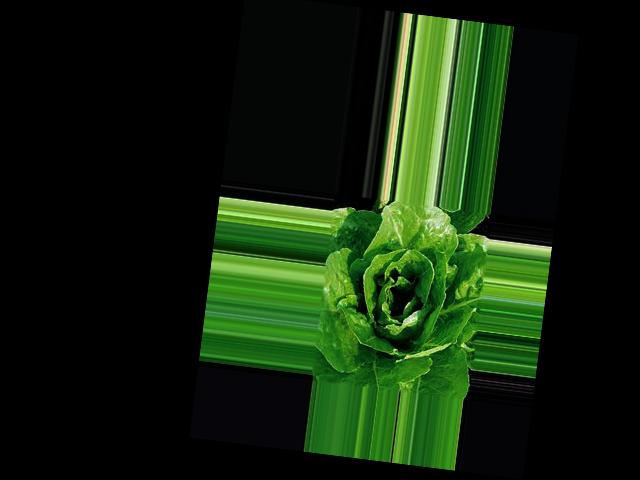lettuce: (425, 248, 515, 372)
